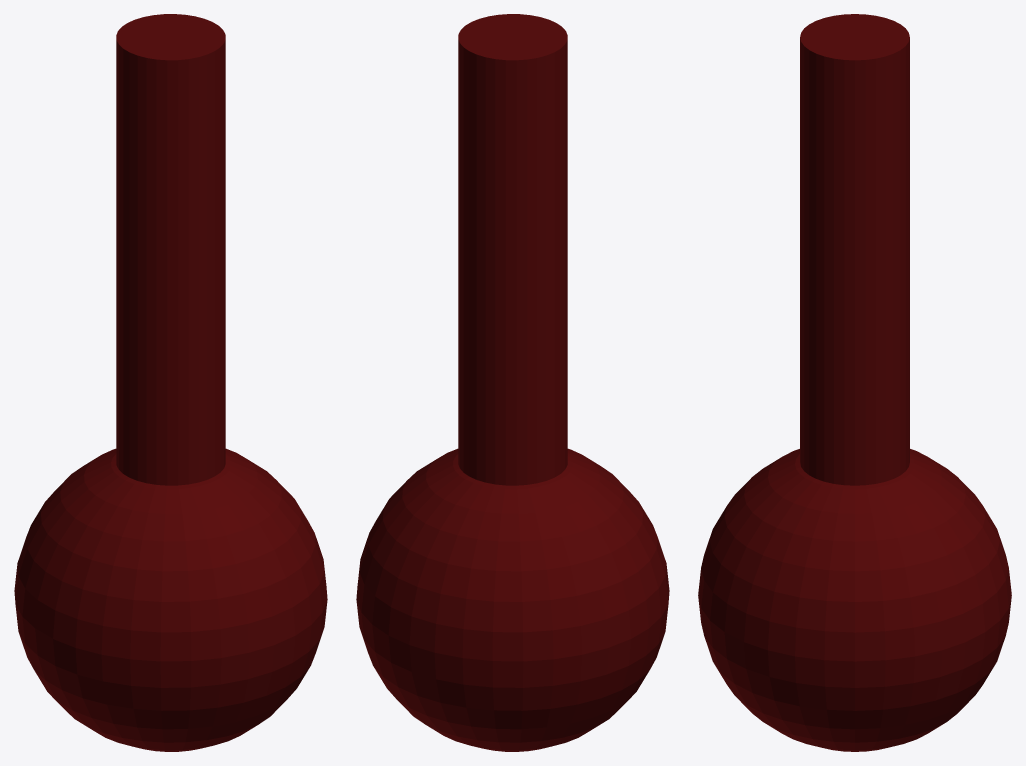
Rendered from buoy_red.obj.
3 renders of one model, left to right at view 1: azimuth 30°, elevation 25°; view 2: azimuth 150°, elevation 25°; view 3: azimuth 270°, elevation 25°, orthographic.
Parts seen in each view (by area): view 1: Sphere.001, Cylinder.019; view 2: Sphere.001, Cylinder.019; view 3: Sphere.001, Cylinder.019.
Boxes of the visible parts, x1=… form: Sphere.001: x1=14, y1=448, x2=327, y2=751; Cylinder.019: x1=116, y1=14, x2=225, y2=485; Sphere.001: x1=356, y1=448, x2=669, y2=751; Cylinder.019: x1=458, y1=14, x2=567, y2=485; Sphere.001: x1=698, y1=449, x2=1011, y2=751; Cylinder.019: x1=800, y1=14, x2=909, y2=485.
Size of the model in its own units: 0.4 by 0.985 by 0.4.
